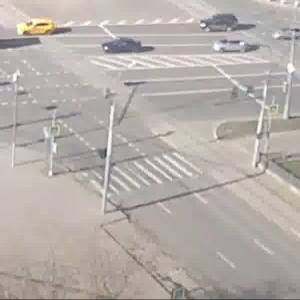car: (100, 37, 146, 61), (202, 13, 241, 40), (213, 32, 247, 57), (18, 18, 60, 38), (273, 27, 300, 42)
